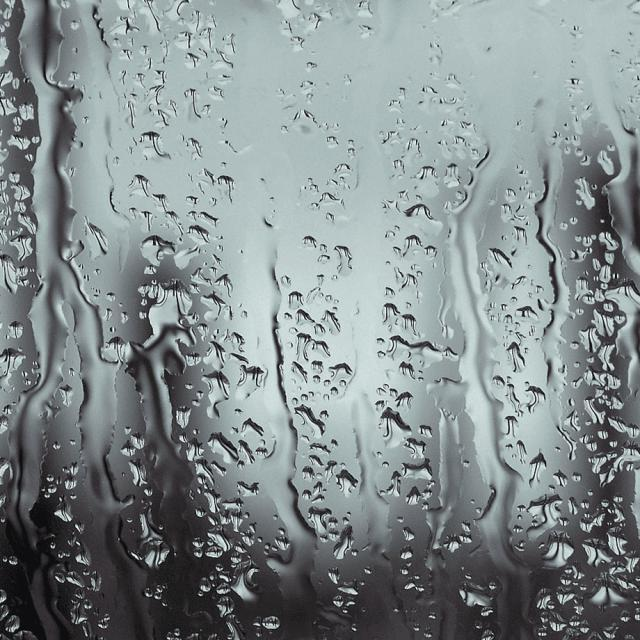raindrop: (122, 496, 173, 570), (368, 328, 447, 372), (122, 222, 184, 276), (516, 489, 564, 544), (446, 567, 496, 617), (368, 402, 416, 454), (225, 556, 268, 611), (196, 427, 246, 473), (126, 124, 170, 172), (280, 398, 330, 440), (398, 198, 448, 238), (578, 580, 622, 624), (300, 493, 335, 545), (232, 364, 269, 412), (200, 368, 234, 420), (574, 535, 616, 575), (330, 514, 360, 570), (329, 462, 366, 504), (0, 340, 31, 390), (328, 232, 356, 282), (393, 459, 438, 488), (315, 188, 355, 220), (408, 163, 443, 199), (124, 451, 153, 494), (0, 253, 28, 293), (575, 170, 597, 212), (120, 172, 153, 200)
